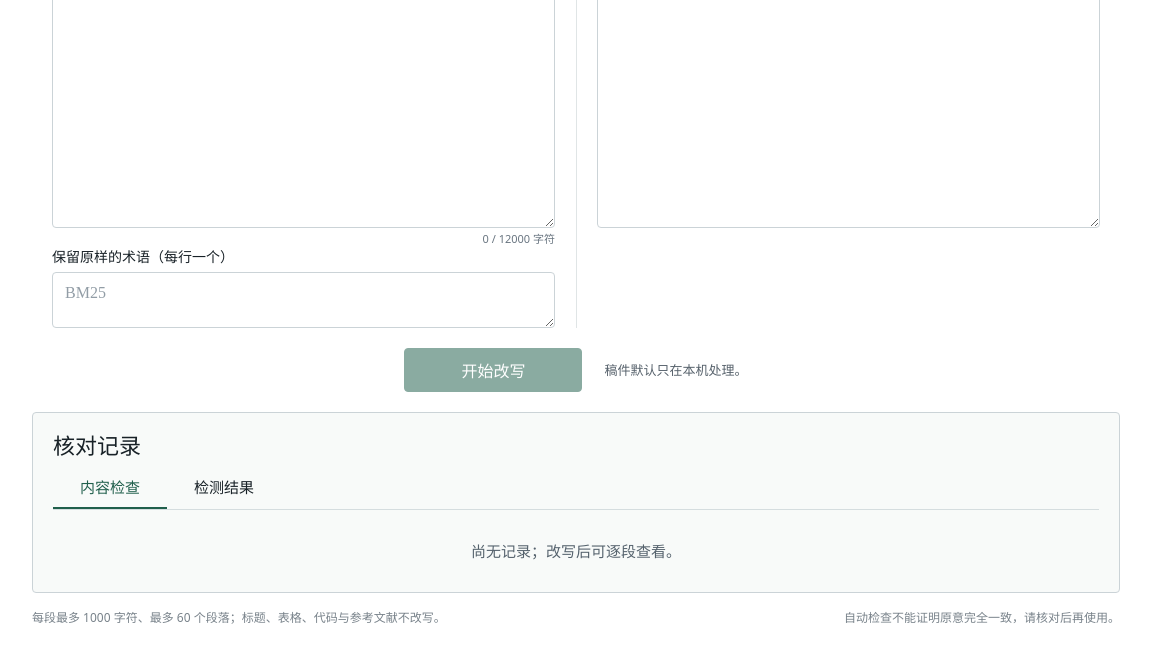
Scenario: enables output editing after generation and labels the new draft as needing recheck
The width and height of the screenshot is (1152, 654).
(page scrolled)
Type "实验" into the text box labelled "保留原样的术语（每行一个）".
click(304, 300); type("实验")  # box [52,272,555,328]
(page scrolled)
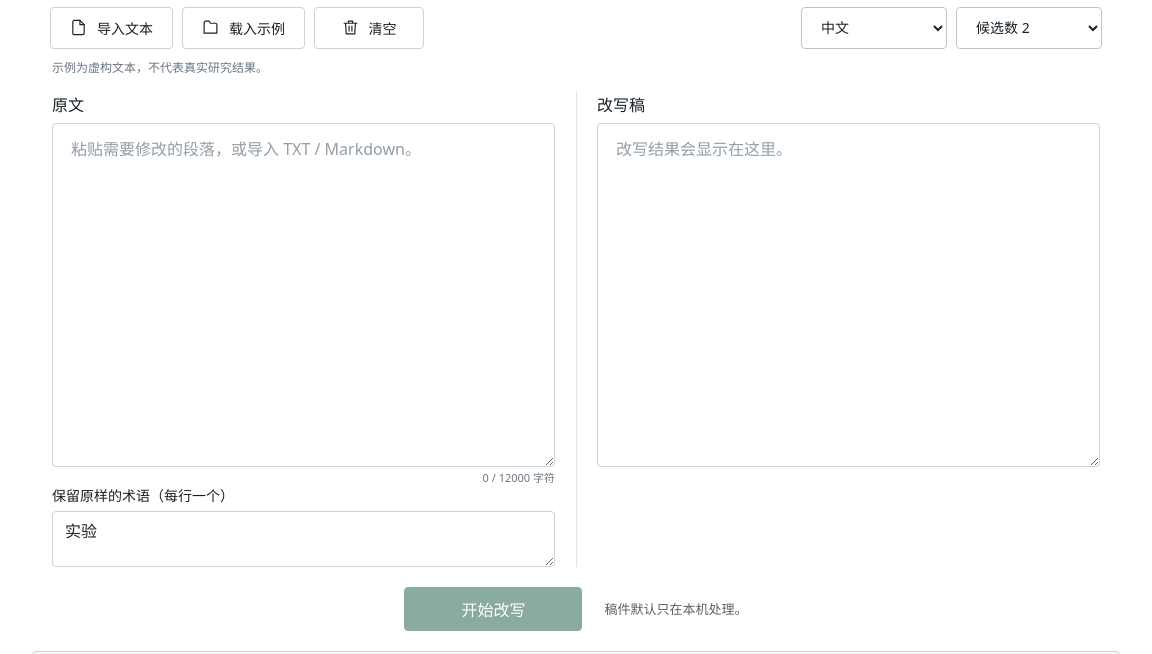
Type "实验重复5次。" into the text box labelled "原文".
click(304, 295); type("实验重复5次。")  # box [52,123,555,467]
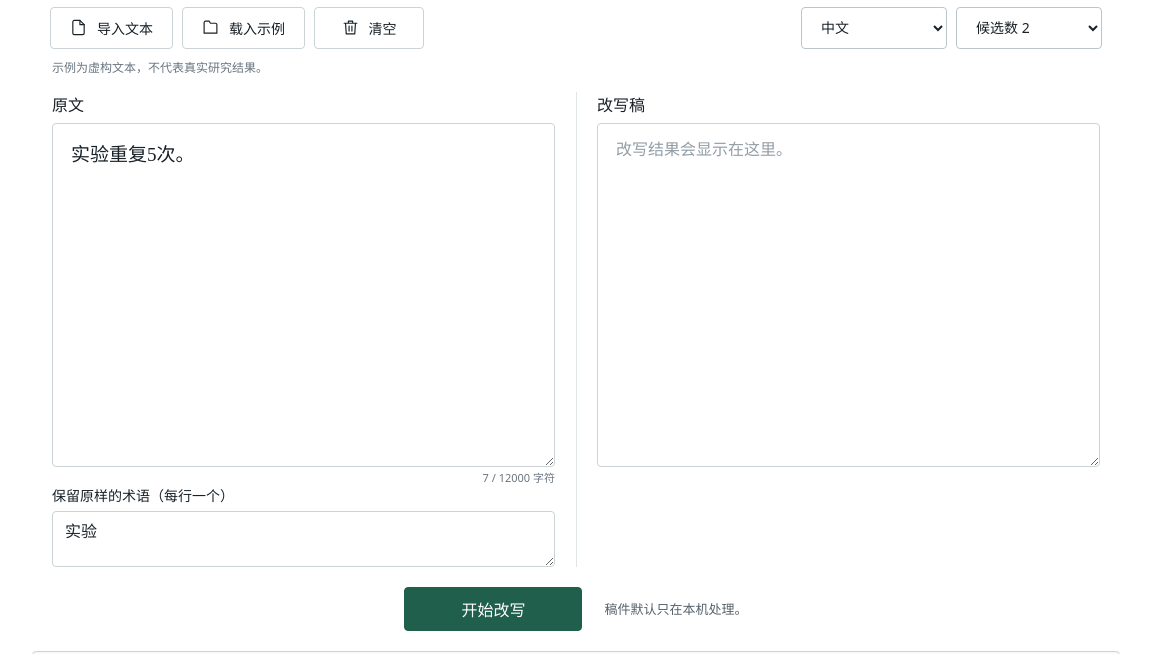
Click the button "开始改写".
click(494, 609)  # box [404,587,582,631]
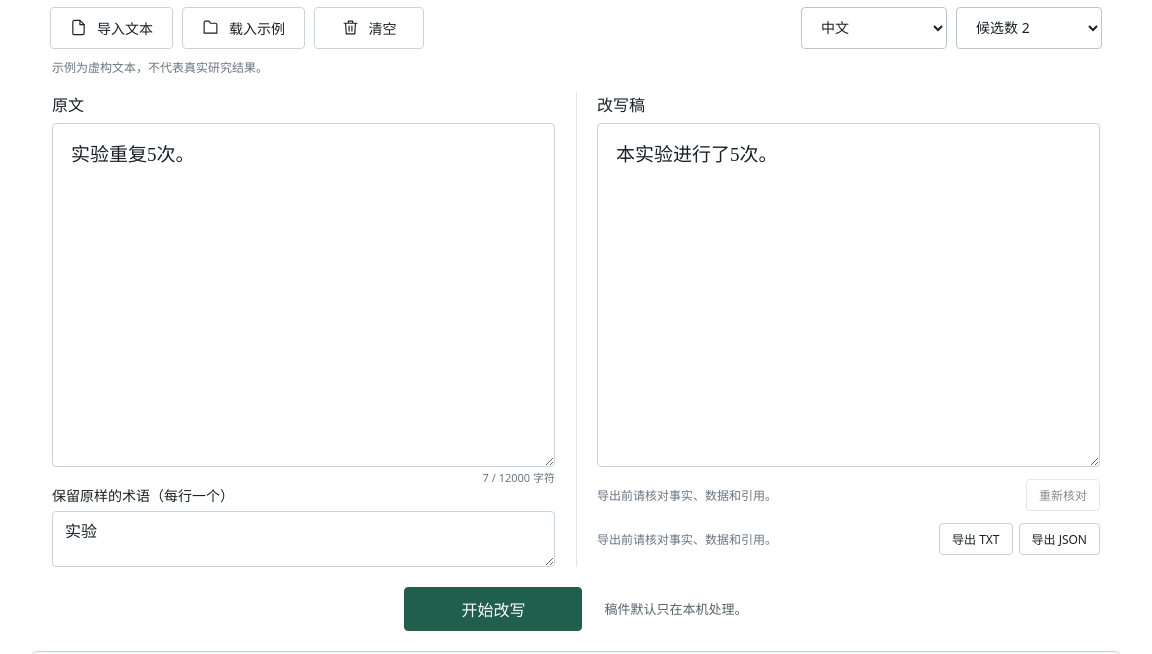
Expected: the text box labelled "改写稿" holds "本实验进行了5次。"
Replace the text in the text box labelled "改写稿" with "用户修改后重复6次。" at (848, 295), box [597,123,1100,467]
(page scrolled)
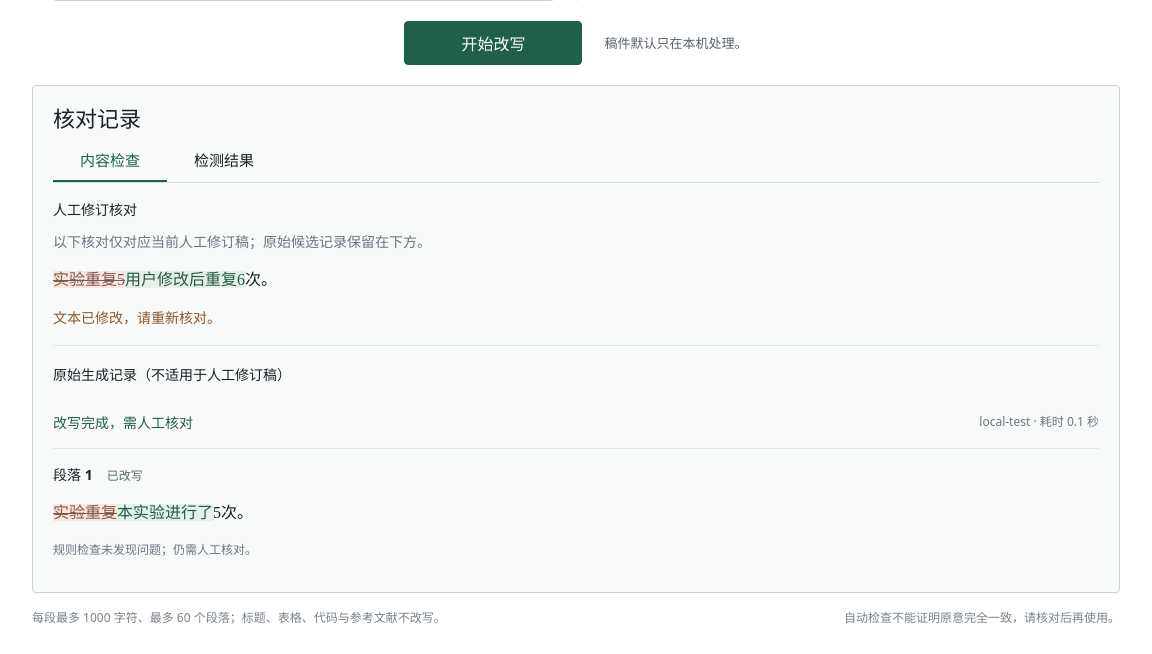
Expected: the text "文本已修改，请重新核对。" is shown, [53,308,221,327]
Expected: the heading "原始生成记录（不适用于人工修订稿）" is shown, [53,365,291,384]
